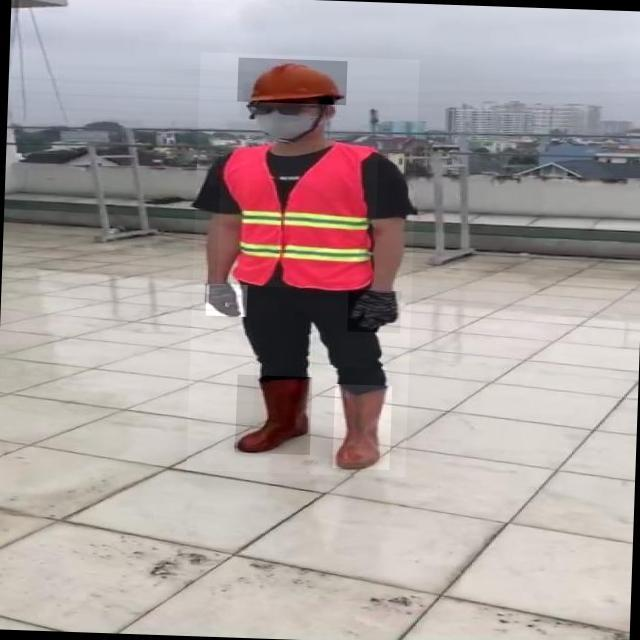Gloves: (348, 289, 401, 333), (206, 283, 247, 316)
Helmet: (238, 57, 347, 105)
Human: (187, 52, 421, 477)
Safety Boot: (235, 374, 312, 455), (333, 384, 392, 470)
Safety Vest: (217, 138, 378, 290)
